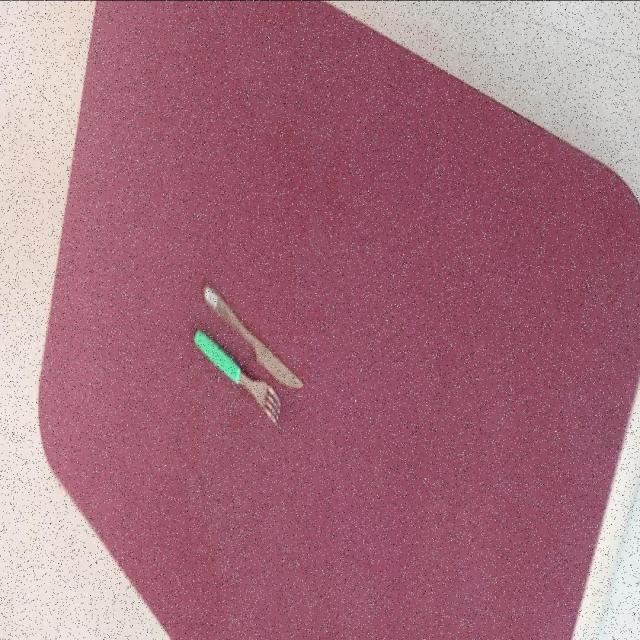Fork: (192, 326, 281, 425)
Knife: (201, 281, 304, 387)
